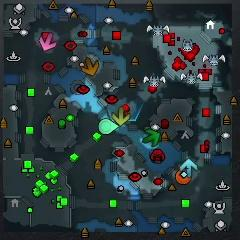p2: (98, 118, 120, 135)
p5: (175, 169, 192, 184)
x1: (40, 32, 57, 51)
x2: (111, 107, 131, 126)
x3: (178, 157, 199, 179)
x4: (142, 128, 160, 147)
x5: (81, 57, 100, 77)
